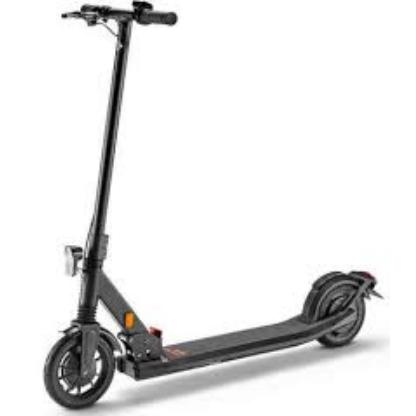bike: (43, 1, 384, 412)
